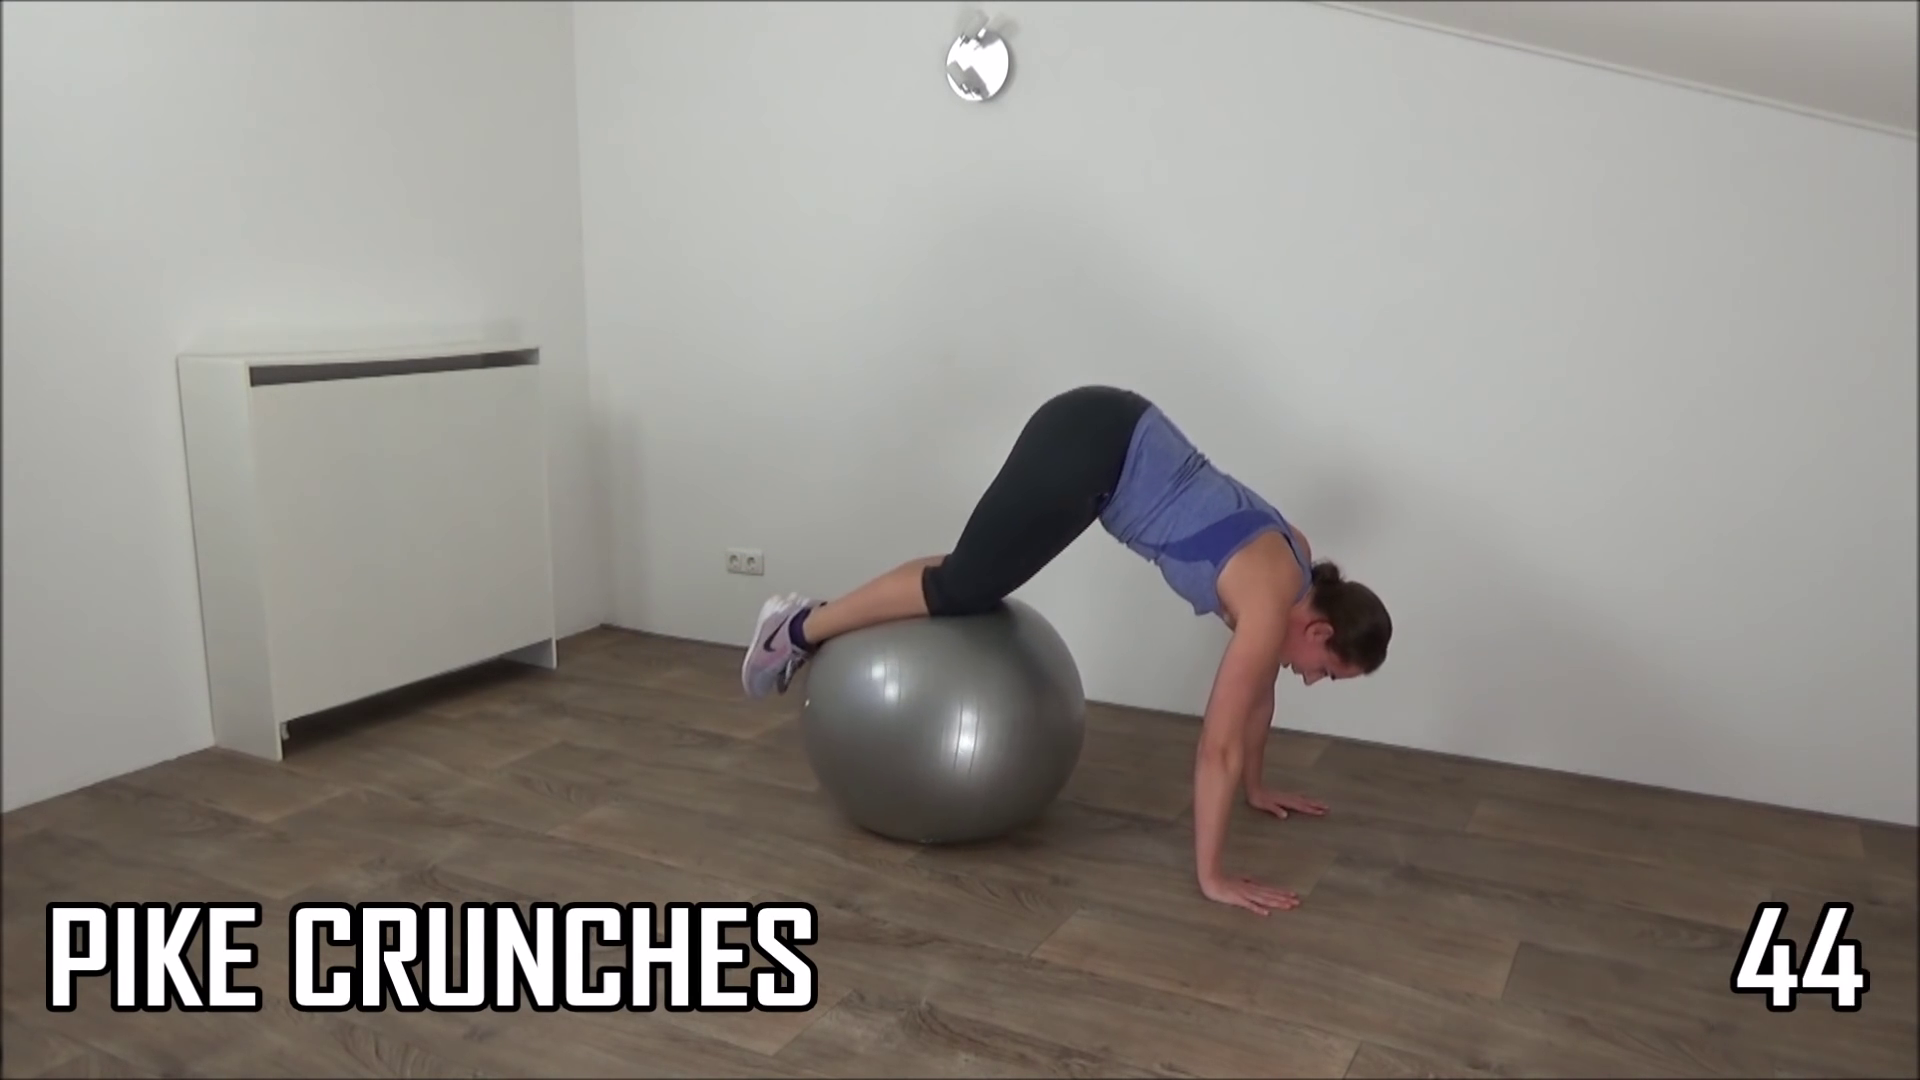yogaball: (785, 589, 1100, 851)
